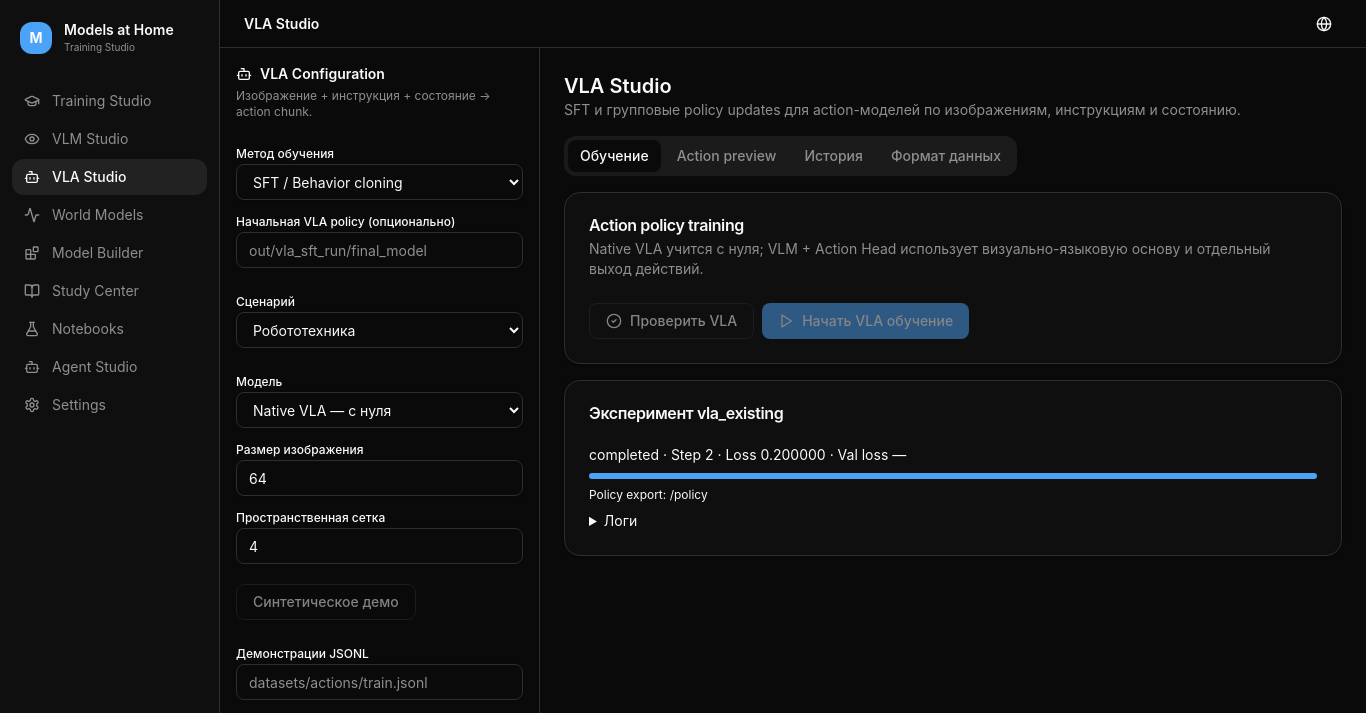
it: page smoke tests › keeps a discovered VLA experiment visible after completion and gates its export
This screenshot has width=1366, height=713.
Check: the text "Policy export: /policy" is shown, box [589, 487, 708, 502]
Check: the heading "Эксперимент vla_existing" is shown, box [589, 403, 783, 423]
Click the tab "История".
click(834, 156)  # box [792, 140, 875, 172]
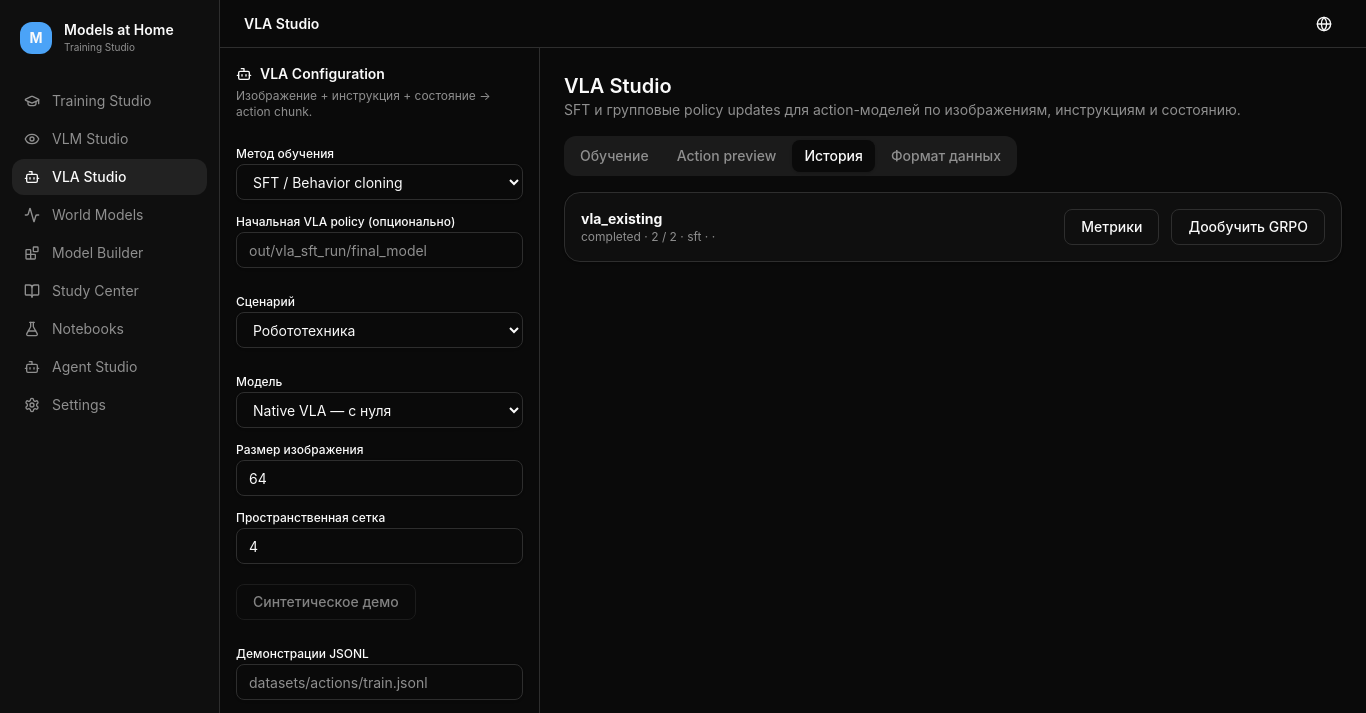
Click the button "Дообучить GRPO".
click(1248, 227)  # box [1172, 209, 1325, 245]
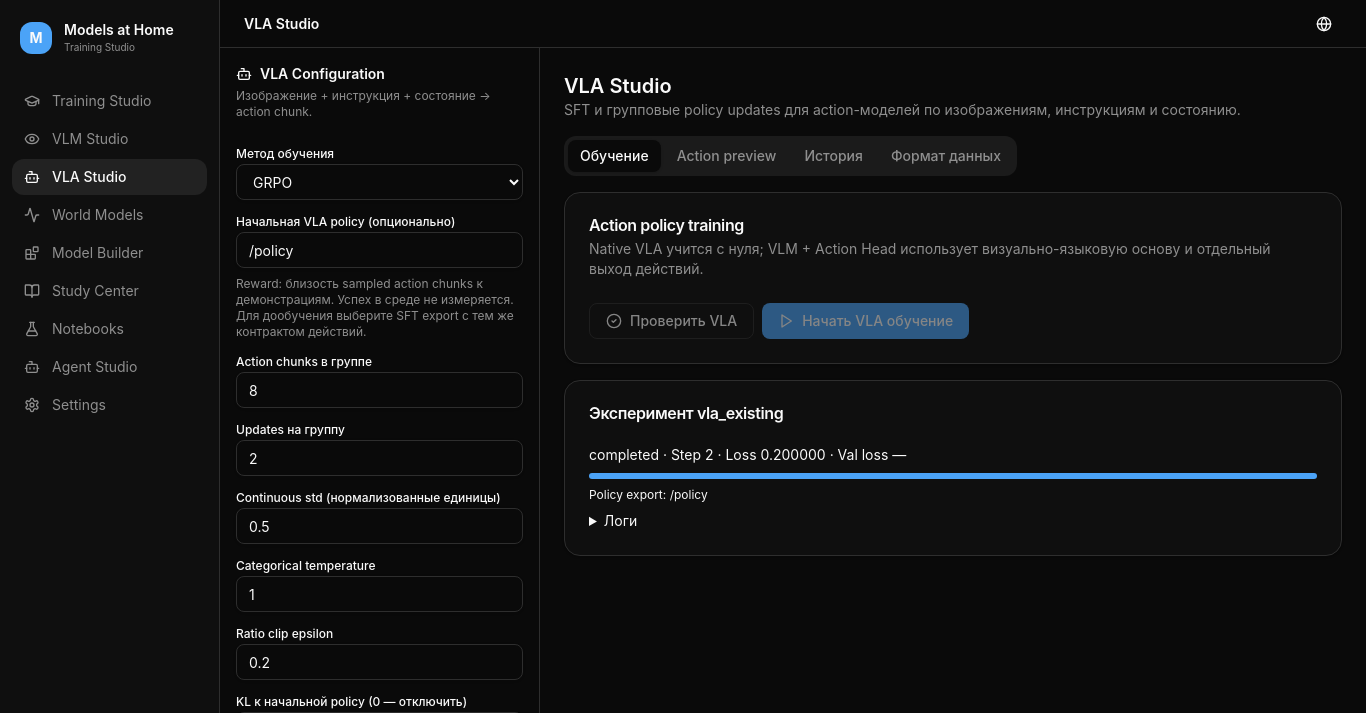
Check: the dropdown named "VLA algorithm" shows "GRPO", box [236, 164, 523, 200]
Check: the field labelled "Начальная VLA policy (опционально)" holds "/policy", box [236, 232, 523, 268]
Check: the button "Начать VLA обучение" is disabled, box [762, 303, 969, 339]
Click the tab "Action preview".
click(726, 156)  # box [665, 140, 788, 172]
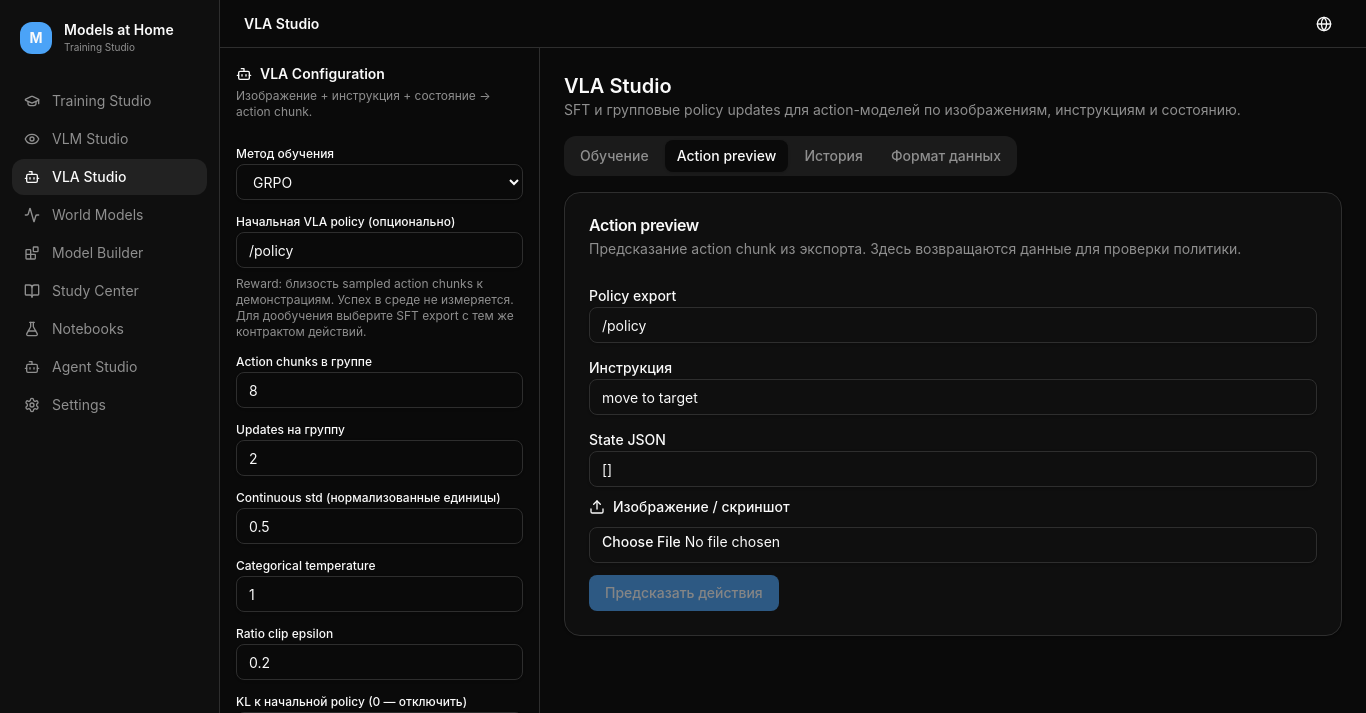
Check: the field labelled "State JSON" holds "[]", box [589, 451, 1317, 487]
